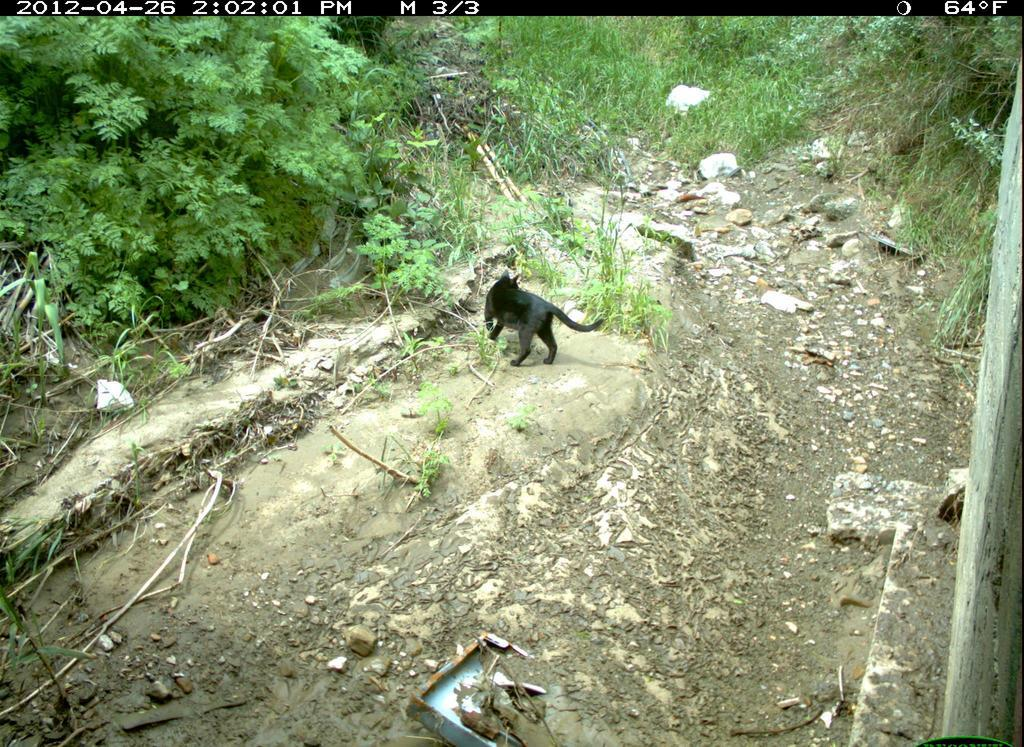cat: (479, 265, 609, 373)
